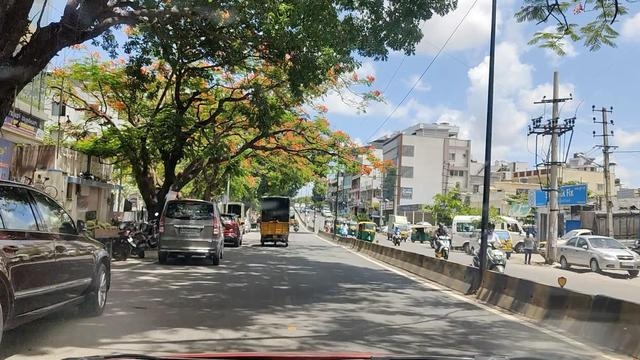HMV: (259, 193, 287, 243)
LMV: (159, 197, 220, 259)
